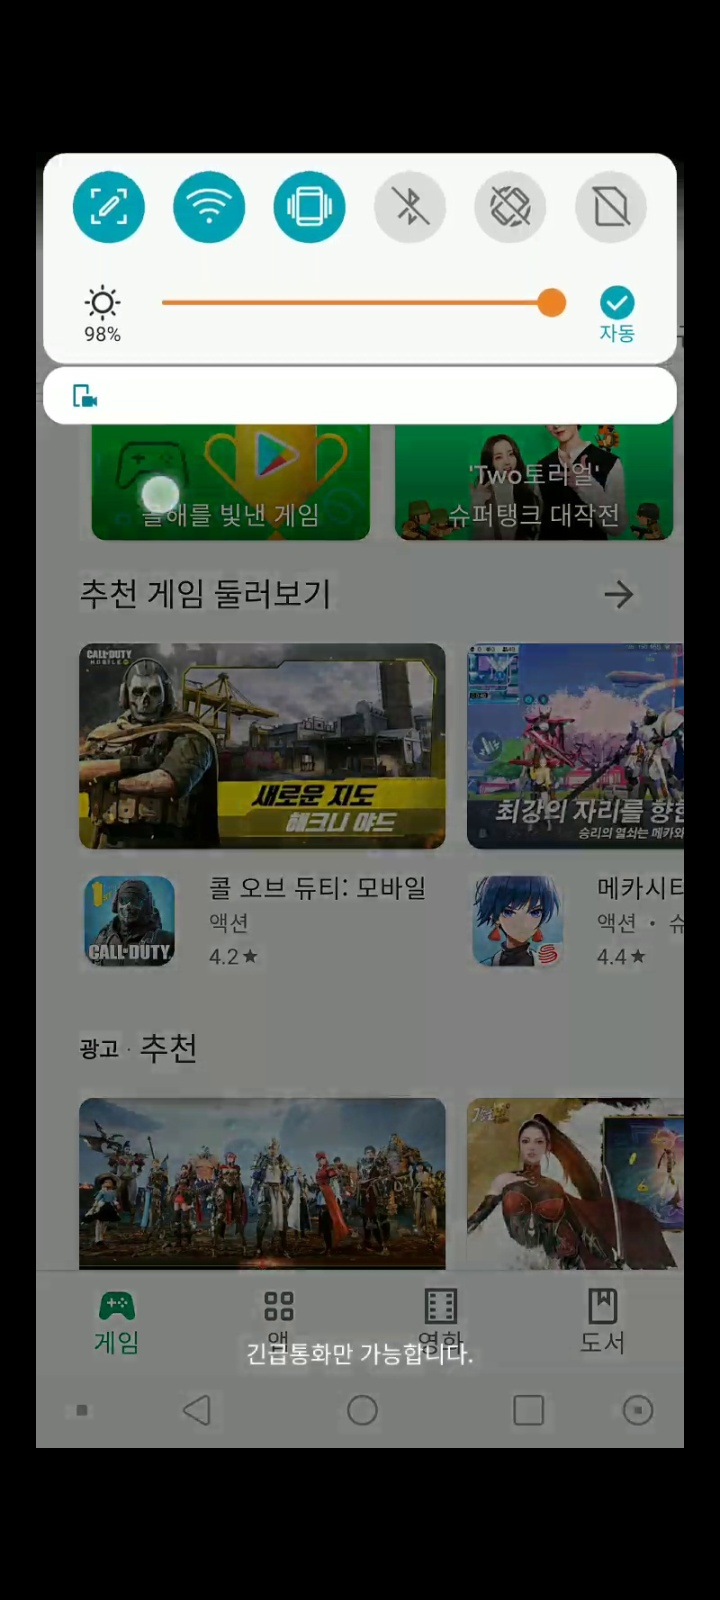Cursor: (139, 473, 184, 518)
